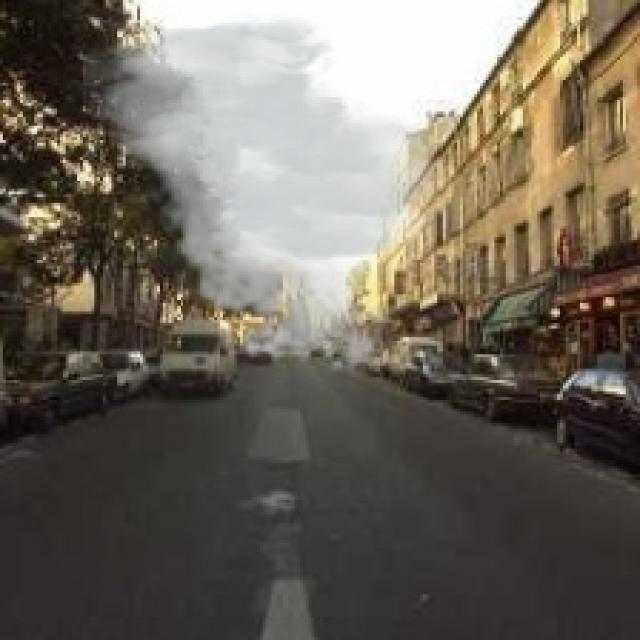smoke: (83, 11, 460, 383)
